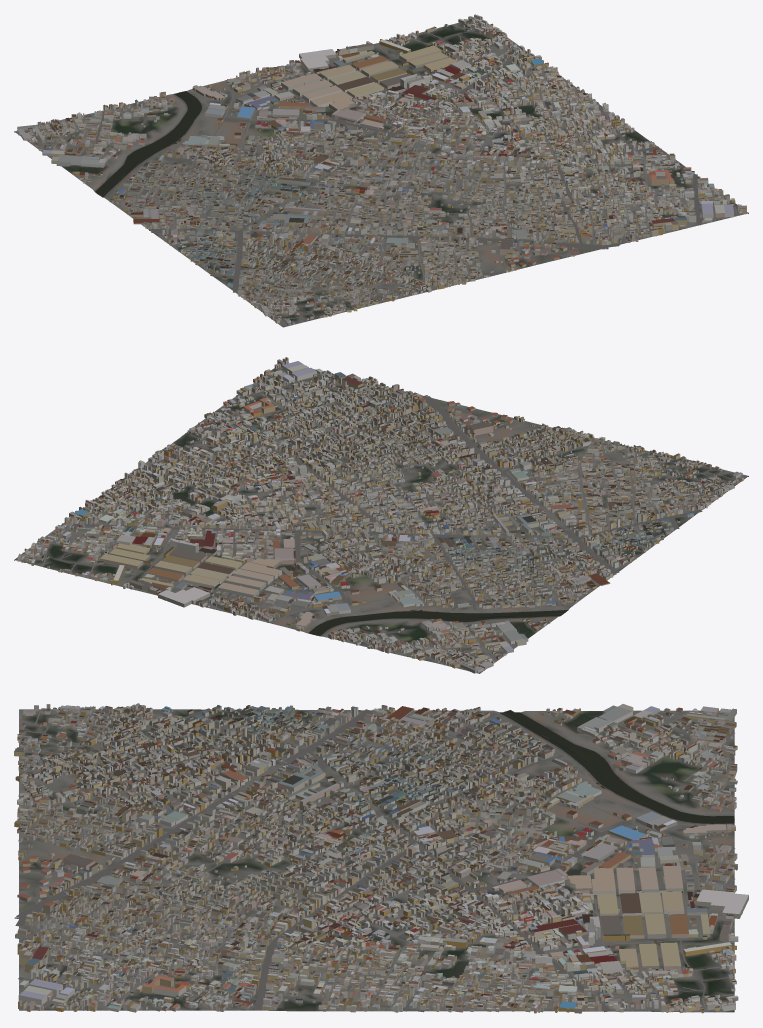
The picture shows the model from 3 angles, top to bottom: view 1: azimuth 30°, elevation 25°; view 2: azimuth 150°, elevation 25°; view 3: azimuth 270°, elevation 25°; orthographic projection. The views are drawn at different scales.
Parts seen in each view (by area): view 1: buildings, ground, roads, water; view 2: buildings, ground, roads, water; view 3: buildings, ground, roads, water.
Part boxes in pixels (x1=…): buildings: x1=17, y1=14, x2=746, y2=325; ground: x1=14, y1=22, x2=748, y2=327; roads: x1=15, y1=24, x2=748, y2=326; water: x1=95, y1=91, x2=201, y2=197; buildings: x1=17, y1=357, x2=743, y2=673; ground: x1=14, y1=367, x2=748, y2=673; roads: x1=20, y1=368, x2=747, y2=673; water: x1=309, y1=610, x2=567, y2=635; buildings: x1=14, y1=703, x2=748, y2=1013; ground: x1=19, y1=709, x2=734, y2=1012; roads: x1=14, y1=707, x2=735, y2=1012; water: x1=499, y1=710, x2=734, y2=823.
Size of the model in its own units: 1425 by 38.43 by 1439.
